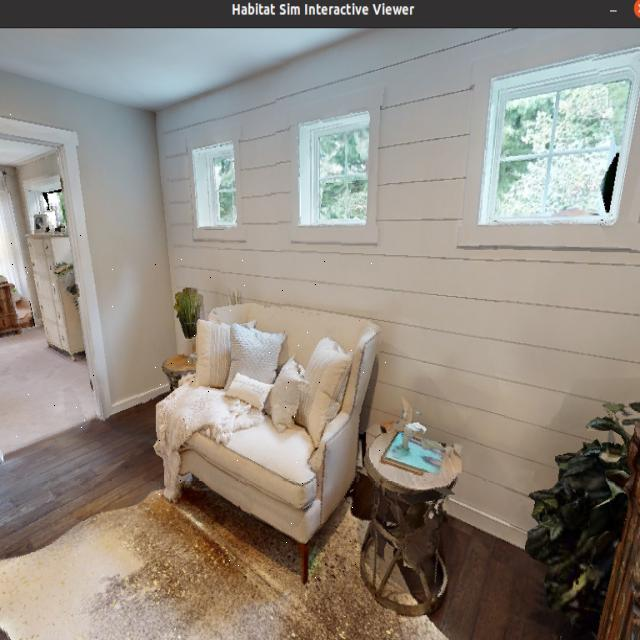door-frame: (0, 110, 119, 476)
sofa: (155, 257, 392, 590)
